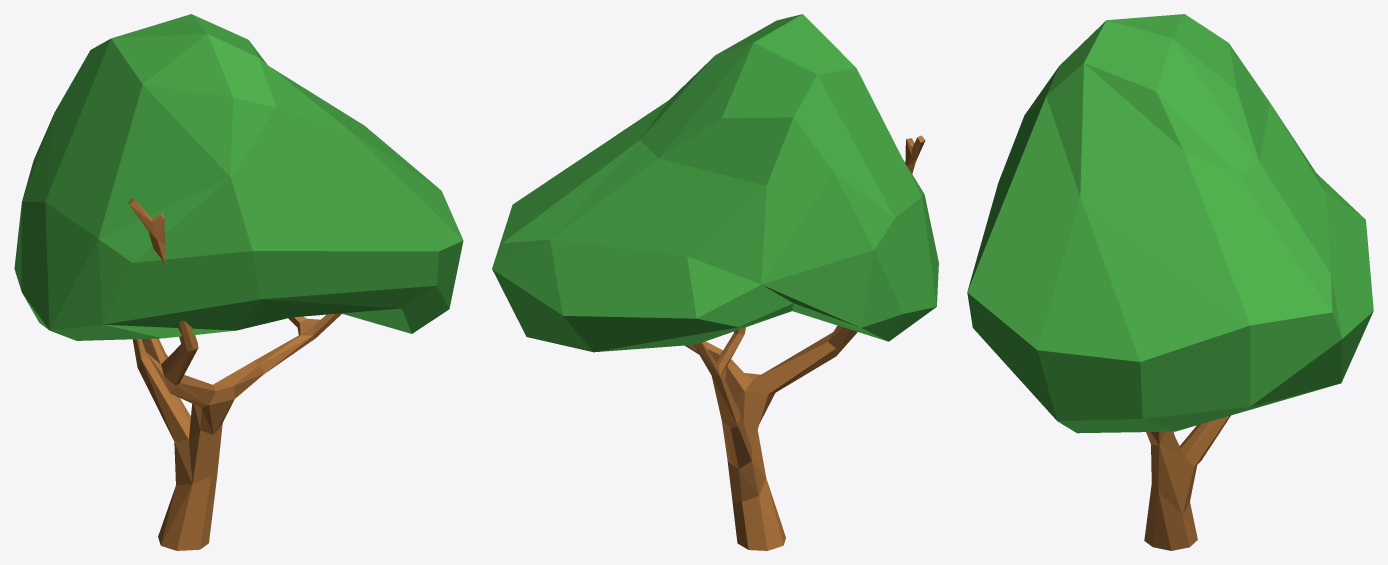
Rendered from tree_14.glb.
3 views of the same model, side by side, from view 1: azimuth 30°, elevation 25°; view 2: azimuth 150°, elevation 25°; view 3: azimuth 270°, elevation 25° (orthographic). The views are drawn at different scales.
Parts seen in each view (by area): view 1: Lowpoly_Tree_14_Material.002_0, Lowpoly_Tree_14_Material_0; view 2: Lowpoly_Tree_14_Material.002_0, Lowpoly_Tree_14_Material_0; view 3: Lowpoly_Tree_14_Material.002_0, Lowpoly_Tree_14_Material_0.
Part boxes in pixels (bbox=[...]): Lowpoly_Tree_14_Material.002_0: bbox=[14, 14, 463, 340]; Lowpoly_Tree_14_Material_0: bbox=[128, 198, 341, 550]; Lowpoly_Tree_14_Material.002_0: bbox=[492, 14, 938, 352]; Lowpoly_Tree_14_Material_0: bbox=[685, 135, 925, 550]; Lowpoly_Tree_14_Material.002_0: bbox=[967, 14, 1373, 433]; Lowpoly_Tree_14_Material_0: bbox=[1144, 415, 1230, 550].
Bounding box in the file's own units: 0.6764 × 0.8589 × 0.6145.
